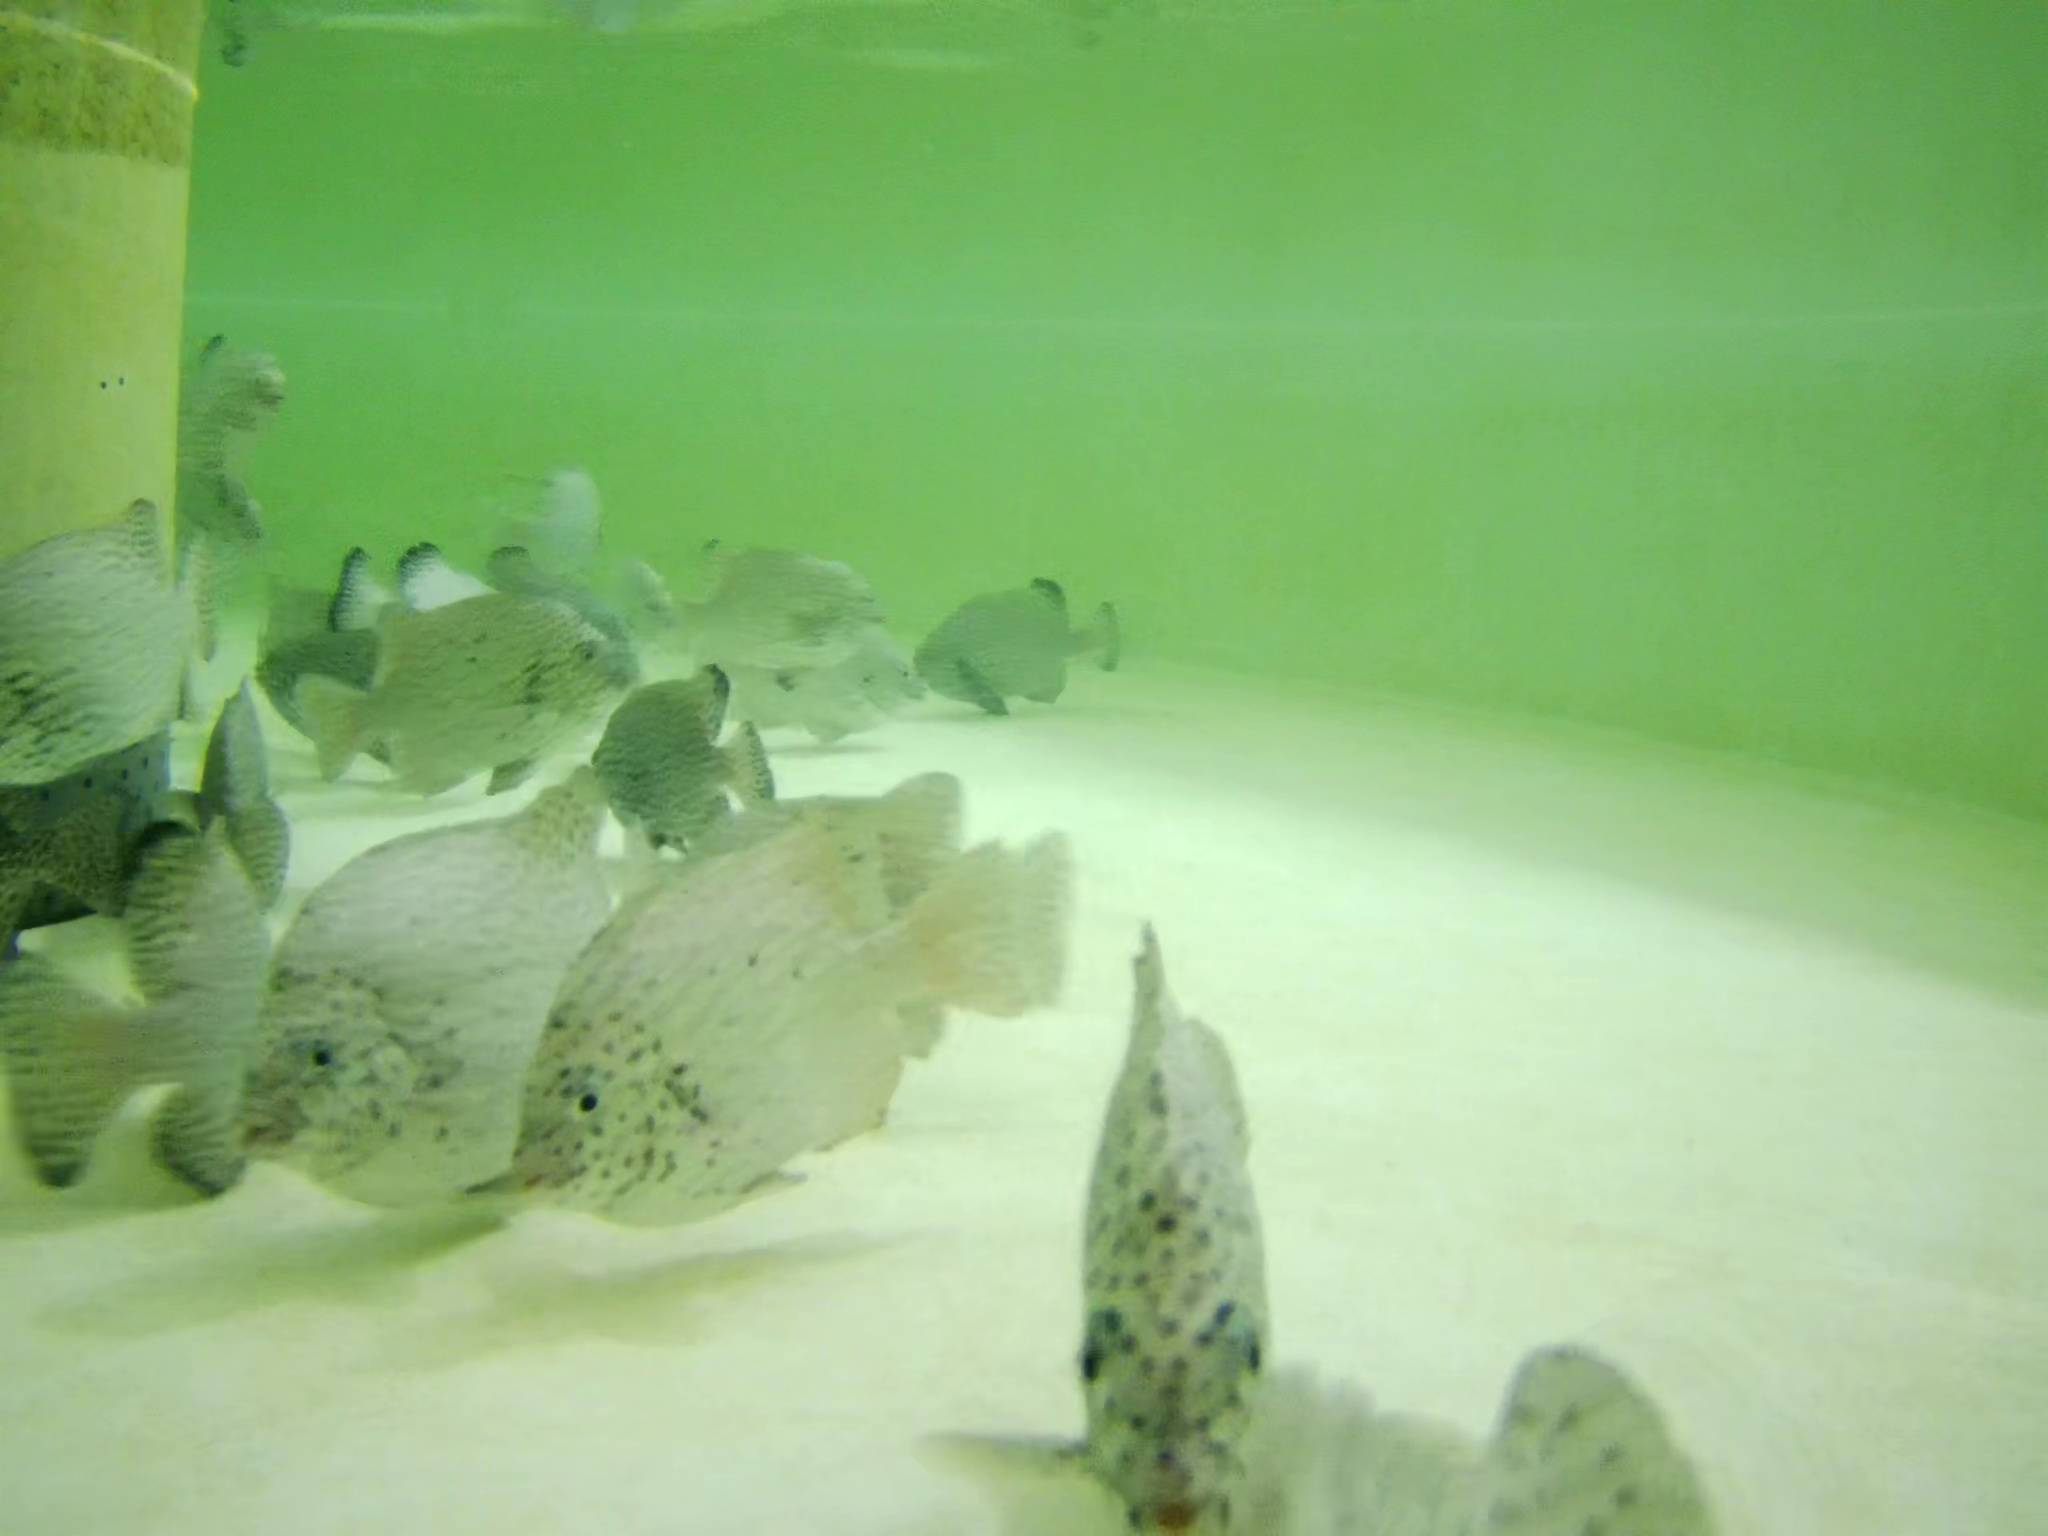fish: (529, 831, 1039, 1220), (256, 800, 634, 1231), (1205, 1321, 1708, 1536), (1098, 941, 1272, 1536), (677, 778, 1079, 1031), (2, 823, 248, 1208), (300, 545, 614, 787), (2, 513, 223, 771), (489, 457, 693, 653), (126, 710, 295, 928), (655, 524, 885, 665), (587, 679, 772, 849), (708, 621, 930, 760), (910, 565, 1134, 695), (198, 331, 314, 549), (258, 581, 398, 749)
